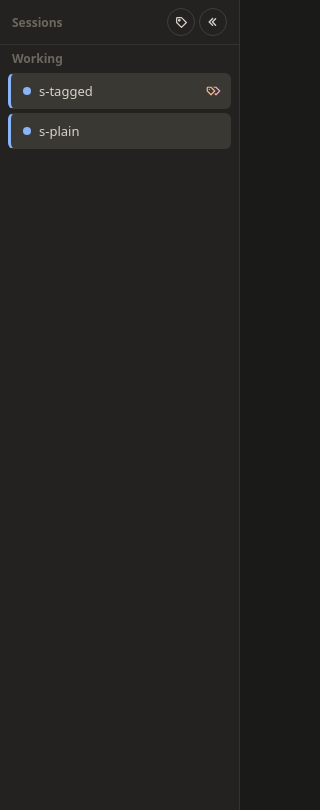
Scenario: AttentionRail — tags (T-27, T-28) › the peek draws INSIDE the row card, ending in a + tag whose real button stays outside the row
Step 1. Click the button with test id "rail-tags-peek" → (213, 91), box left=203, top=81, right=223, bottom=101
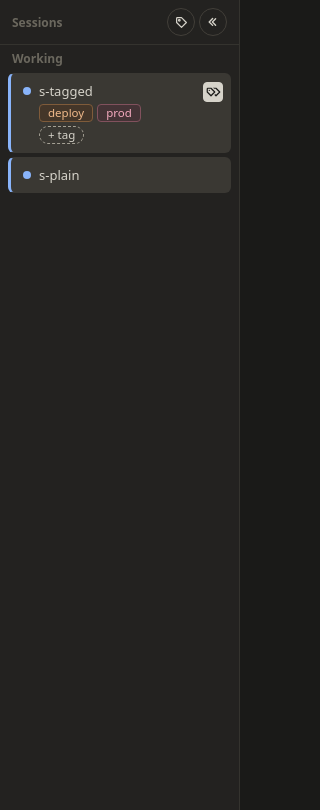
expect the element with test id "rail-tags-panel" is shown: met, box left=39, top=104, right=141, bottom=122
expect the button with test id "rail-tags-add" reads "+ tag": met, box left=39, top=126, right=84, bottom=144
